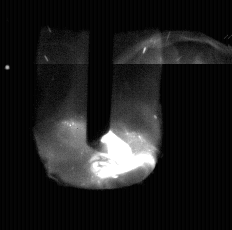arame: (87, 0, 112, 149)
poca: (34, 0, 162, 230)
